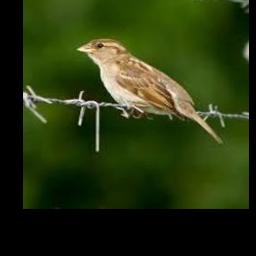Sparrow: (76, 37, 224, 143)
